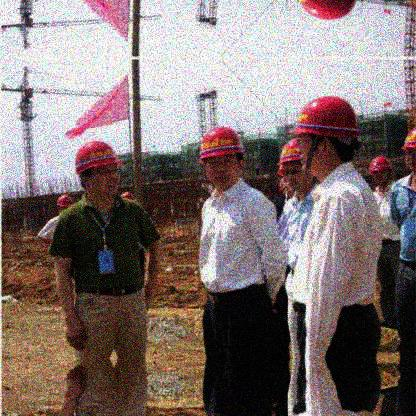helmet: (287, 97, 360, 178), (71, 141, 123, 199), (200, 127, 246, 188), (276, 140, 313, 192), (367, 156, 394, 189), (399, 129, 416, 174)
